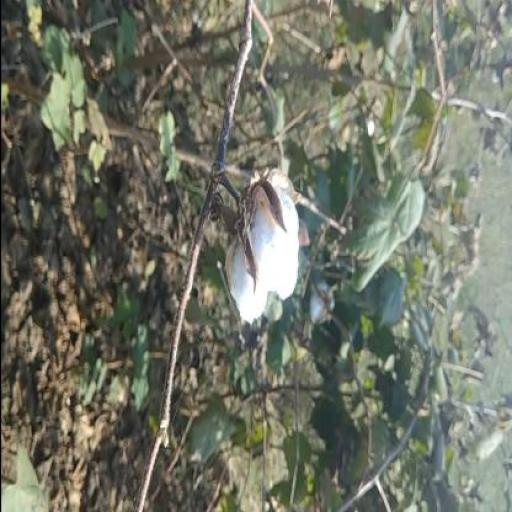cotton_ready: (183, 176, 301, 342)
